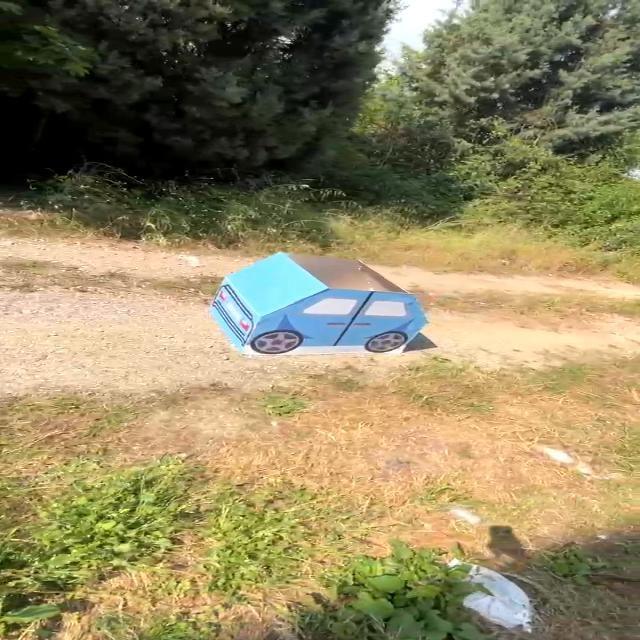blue_car: (194, 241, 438, 369)
